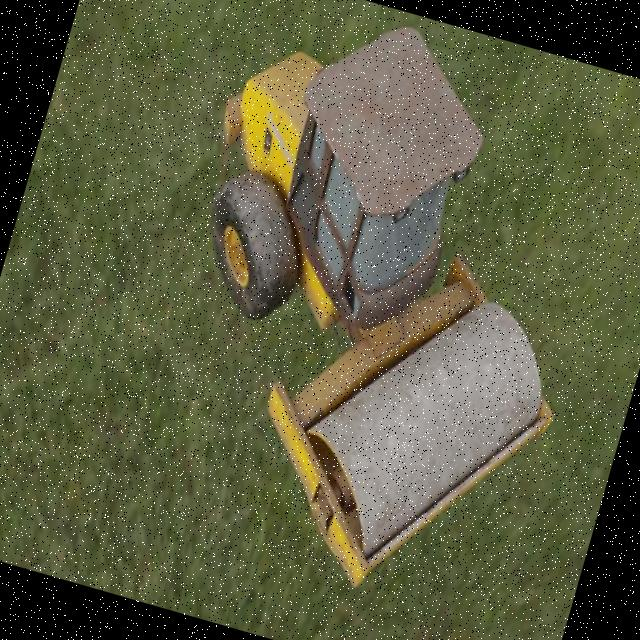Roller: (107, 0, 640, 626)
